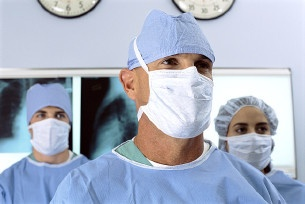Mask: (25, 105, 75, 155)
